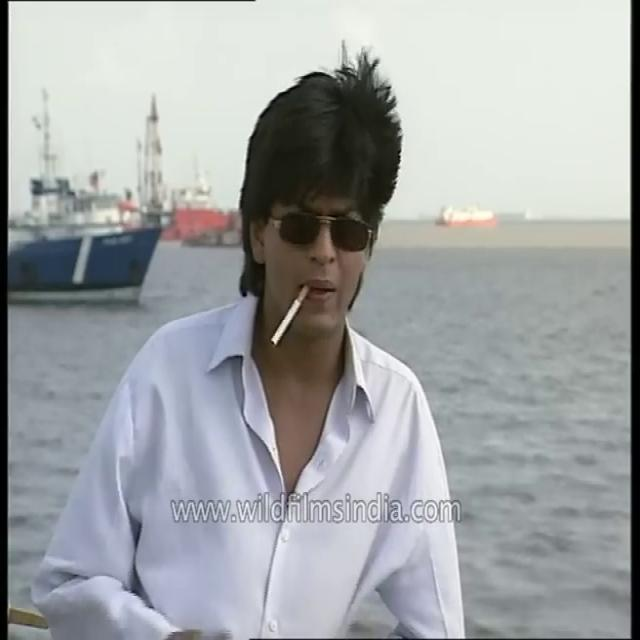Smooking: (252, 277, 308, 346)
